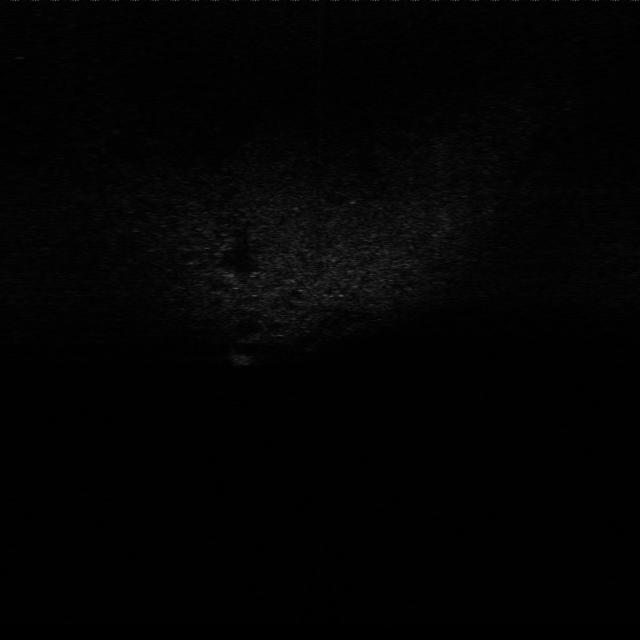cube: (230, 350, 256, 367)
